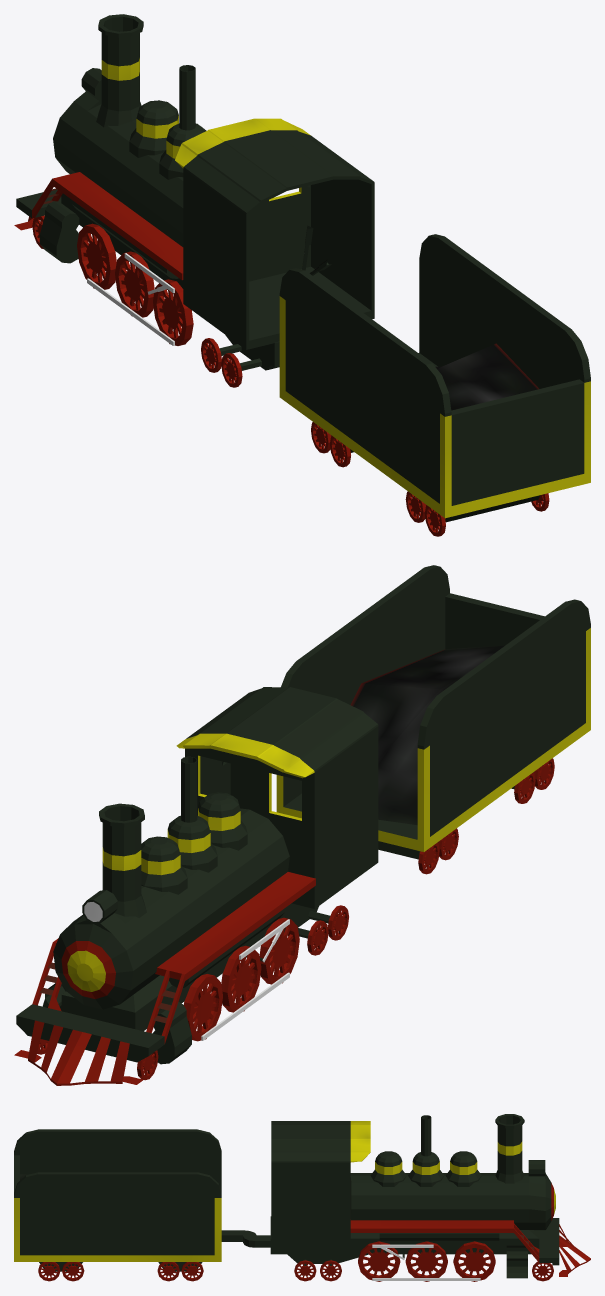
Rendered from Train.fbx.
3 views of the same model, one above another, from view 1: azimuth 30°, elevation 25°; view 2: azimuth 150°, elevation 25°; view 3: azimuth 270°, elevation 25° (orthographic). The views are drawn at different scales.
Visible parts, largest first — view 1: Cube; view 2: Cube; view 3: Cube.
Part boxes in pixels (<box>): Cube: <box>14,14,590,536</box>; Cube: <box>14,565,590,1085</box>; Cube: <box>14,1114,590,1281</box>.
Size of the model in its own units: 622 by 956 by 3383.
